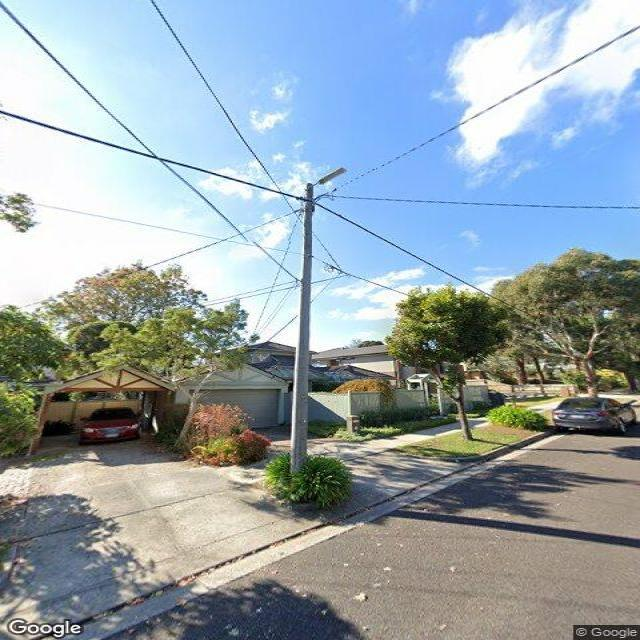concrete-pole: (290, 183, 316, 483)
streetlight: (307, 166, 349, 189)
